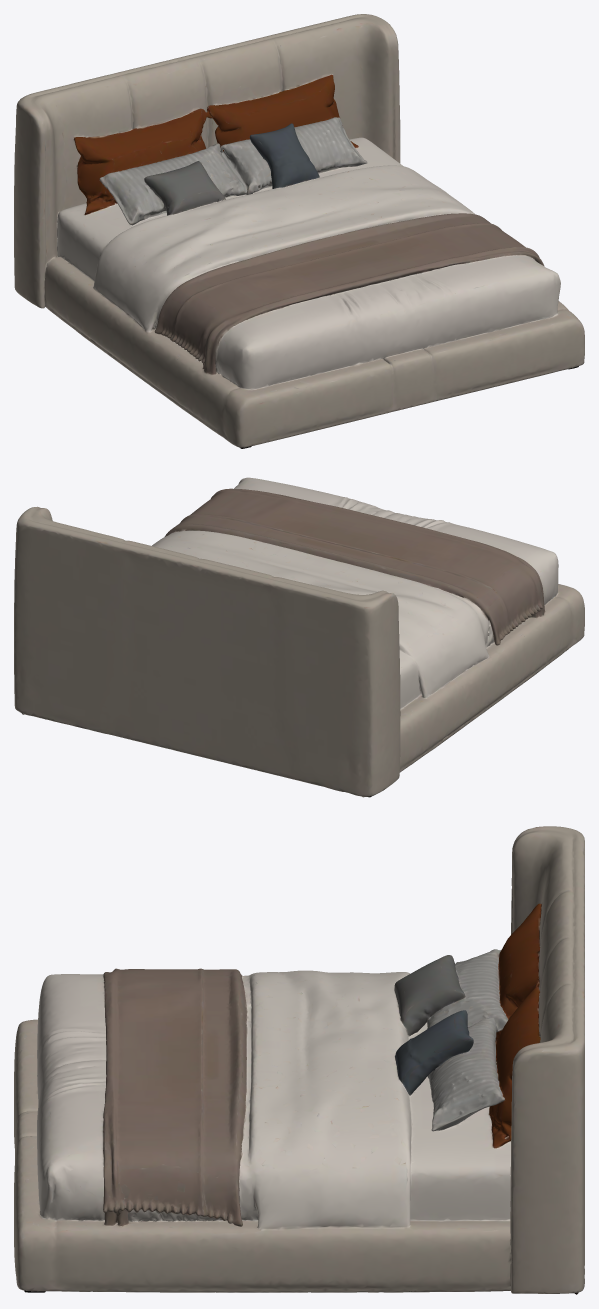
The model's file is Upholstered Platform Bed with Channel-Tufted Headboard [WKM9DT].glb.
The picture shows the model from 3 angles, top to bottom: view 1: azimuth 30°, elevation 25°; view 2: azimuth 150°, elevation 25°; view 3: azimuth 270°, elevation 25°; orthographic projection. The views are drawn at different scales.
Visible parts, largest first — view 1: world; view 2: world; view 3: world.
Boxes of the visible parts, bbox=[...] form: world: bbox=[14, 14, 584, 448]; world: bbox=[14, 477, 584, 797]; world: bbox=[14, 826, 584, 1294].
Size of the model in its own units: 0.956 by 0.4876 by 1.
1 material, 1 textured.
